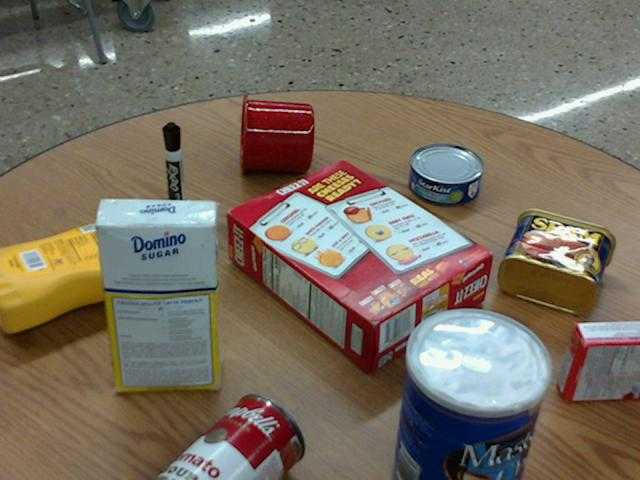cracker_box: (225, 160, 490, 367)
gelatin_box: (558, 320, 639, 401)
large_marker: (162, 122, 185, 224)
master_chef_can: (391, 308, 549, 479)
mug: (239, 95, 313, 174)
mustard_bottle: (0, 220, 184, 332)
potted_meat_can: (498, 207, 615, 314)
sugar_box: (94, 198, 217, 390)
tomato_soup_can: (155, 393, 304, 479)
tuna_fish_can: (409, 143, 483, 204)
